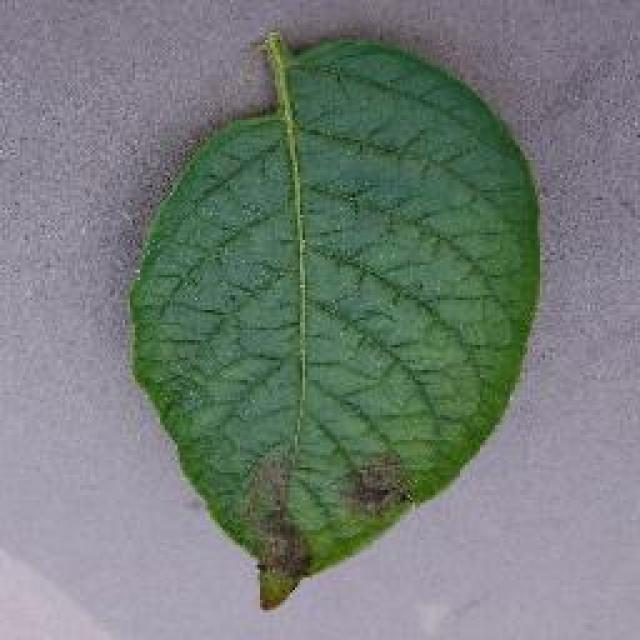Potato___Late_blight: (128, 29, 539, 612)
